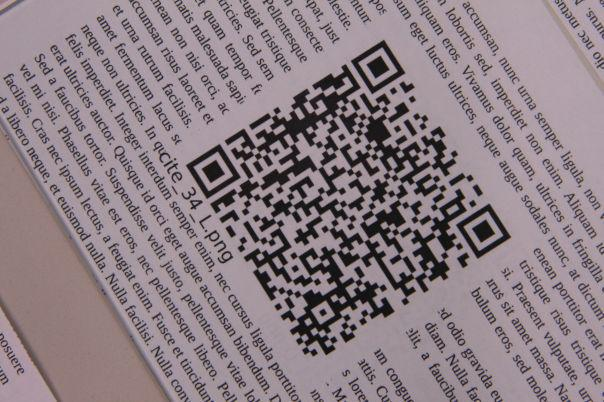Finder pattern: (454, 202, 516, 262), (348, 41, 409, 96), (182, 144, 241, 196)
